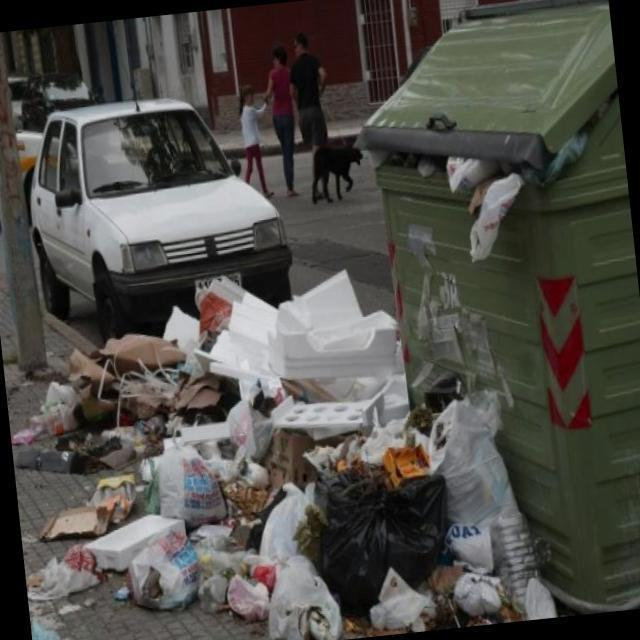garbage: (21, 251, 538, 640), (402, 139, 538, 285), (24, 560, 60, 640), (7, 402, 40, 482)
